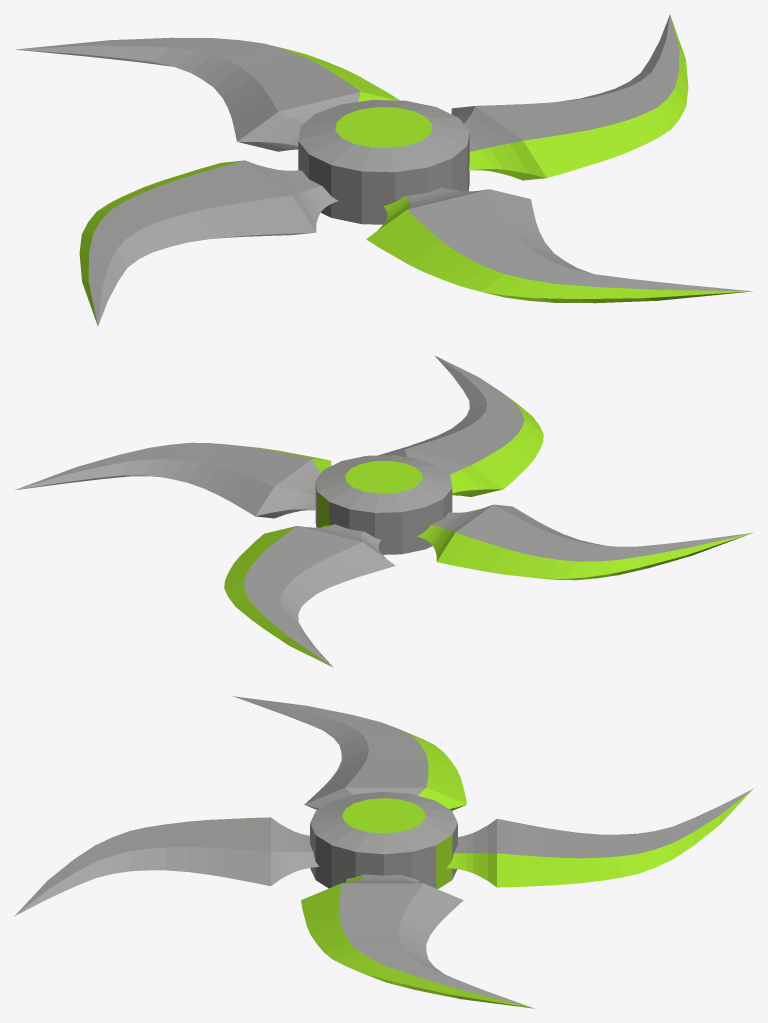
File: Beyblade_Upgraded_Blade.fbx
3 views of the same model, one above another, from view 1: azimuth 30°, elevation 25°; view 2: azimuth 150°, elevation 25°; view 3: azimuth 270°, elevation 25° (orthographic). The views are drawn at different scales.
Visible parts, largest first — view 1: Circle.001; view 2: Circle.001; view 3: Circle.001.
Boxes of the visible parts, x1,y1,x2,y2 form: Circle.001: [15, 15, 752, 325]; Circle.001: [14, 355, 753, 667]; Circle.001: [14, 696, 753, 1008].
Bounding box in the file's own units: 394 × 35.77 × 394.
1 material, 1 textured.
